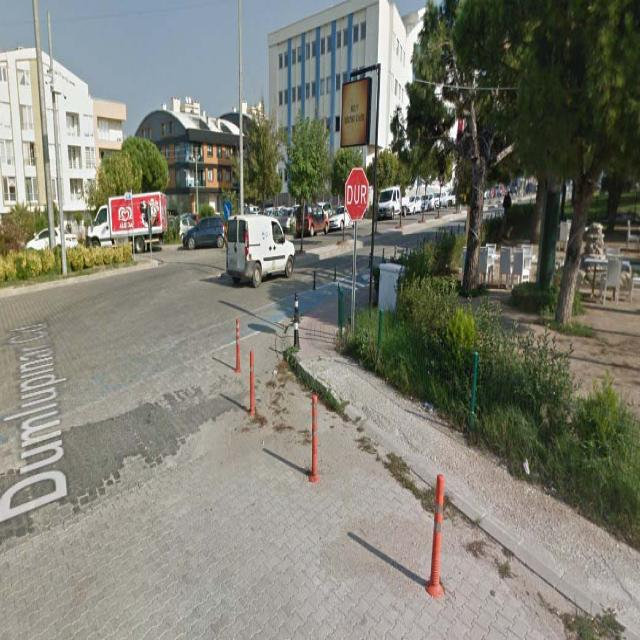dur: (345, 166, 369, 219)
